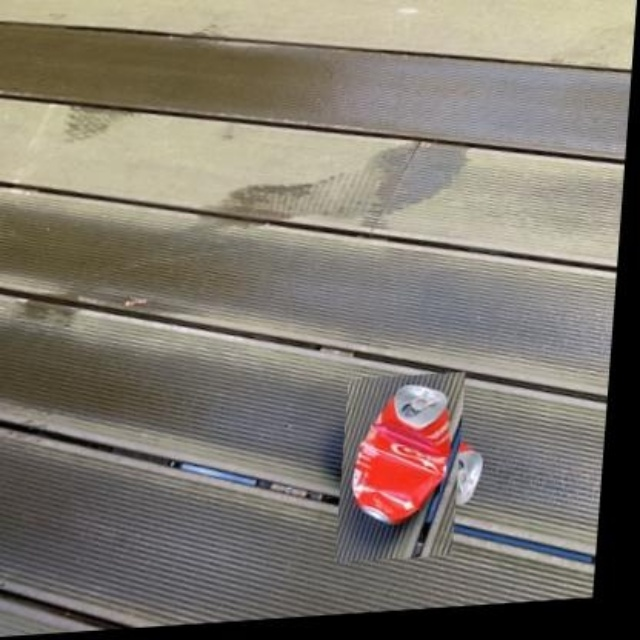trash: (352, 385, 449, 523)
